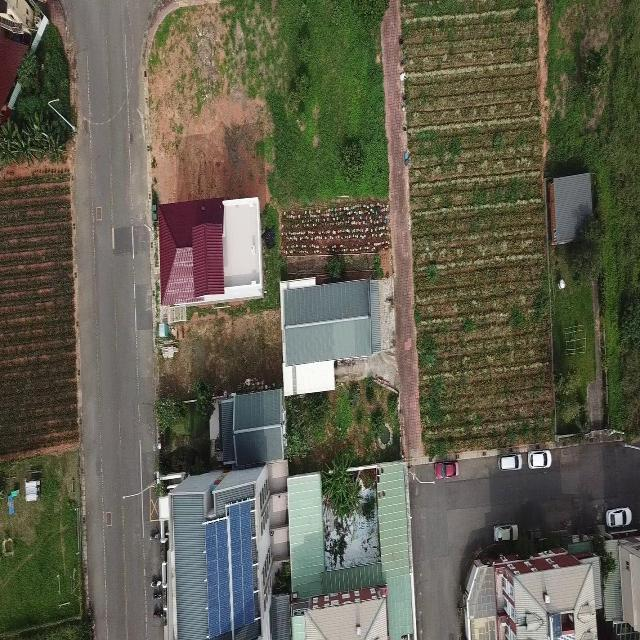bike: (147, 523, 161, 544), (151, 605, 164, 621), (151, 576, 162, 589), (152, 591, 164, 602)
car: (604, 505, 634, 532), (492, 520, 520, 548), (433, 456, 459, 483), (496, 449, 523, 475), (526, 447, 554, 472)
